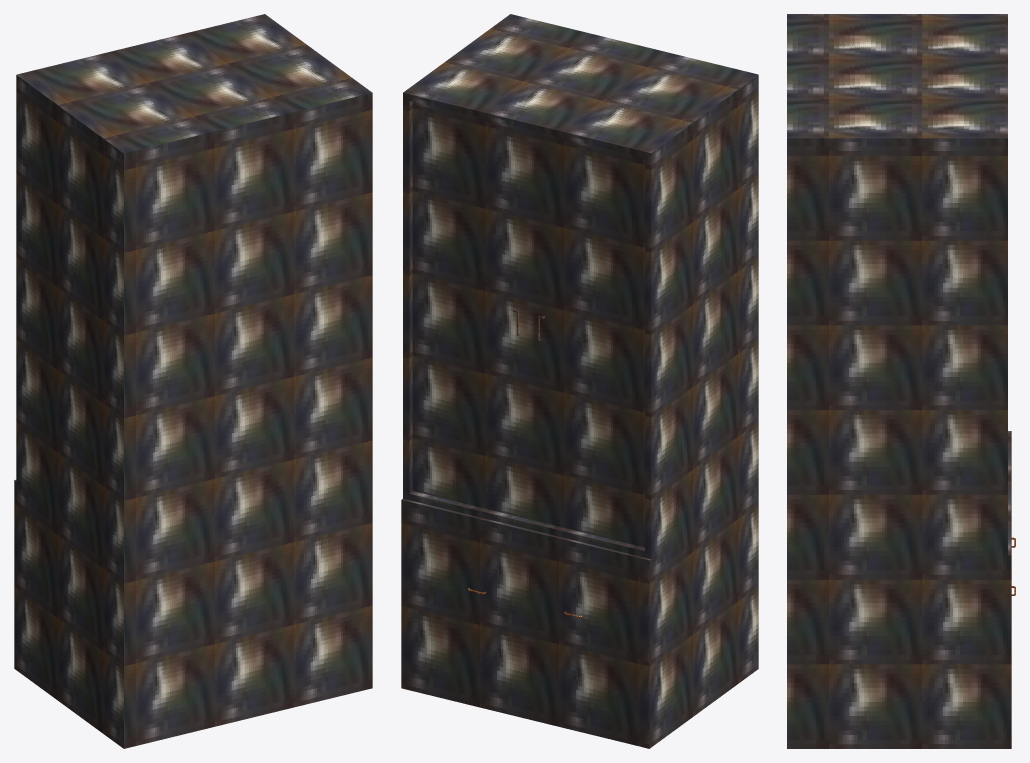
3 views of the same model, side by side, from view 1: azimuth 30°, elevation 25°; view 2: azimuth 150°, elevation 25°; view 3: azimuth 270°, elevation 25° (orthographic). The views are drawn at different scales.
Visible parts, largest first — view 1: mesh5_mesh5-geometry; view 2: mesh5_mesh5-geometry; view 3: mesh5_mesh5-geometry.
Part boxes in pixels (x1,y1,x2,y2): mesh5_mesh5-geometry: (14, 14, 372, 748); mesh5_mesh5-geometry: (401, 14, 758, 748); mesh5_mesh5-geometry: (787, 14, 1011, 748).
Size of the model in its own units: 0.3824 by 0.8748 by 0.2973.
